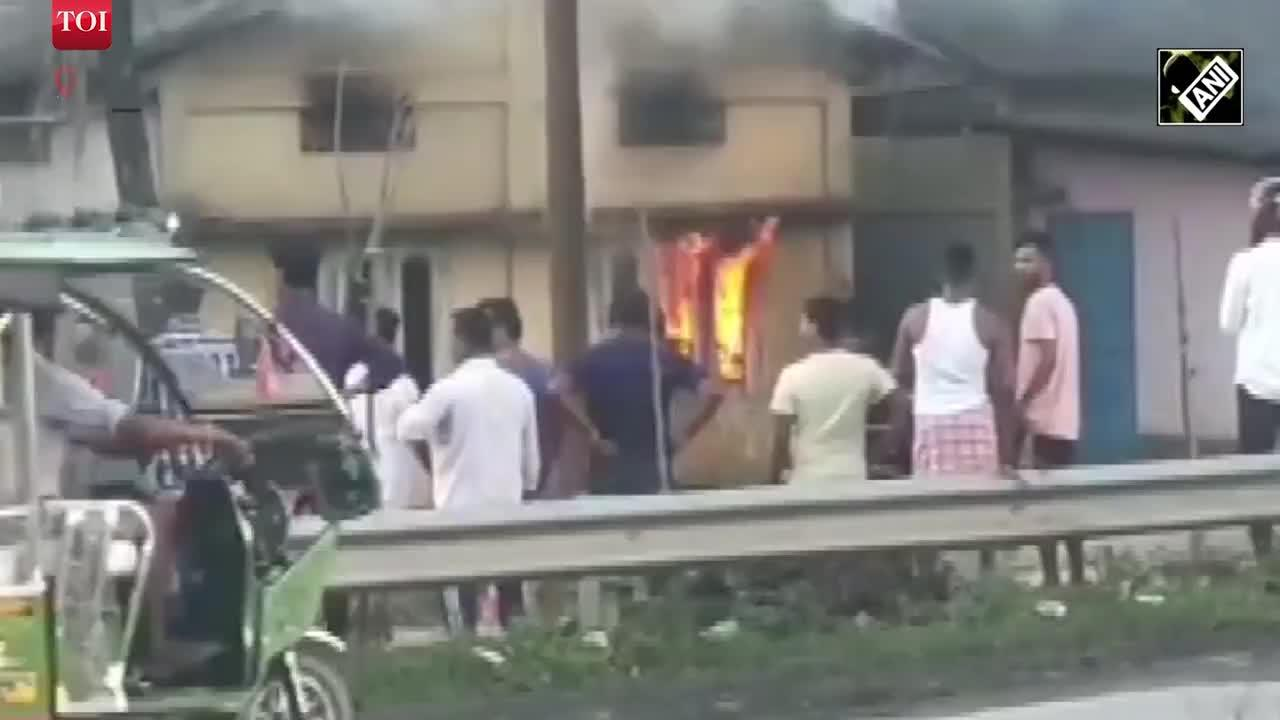fire: (666, 252, 750, 373)
